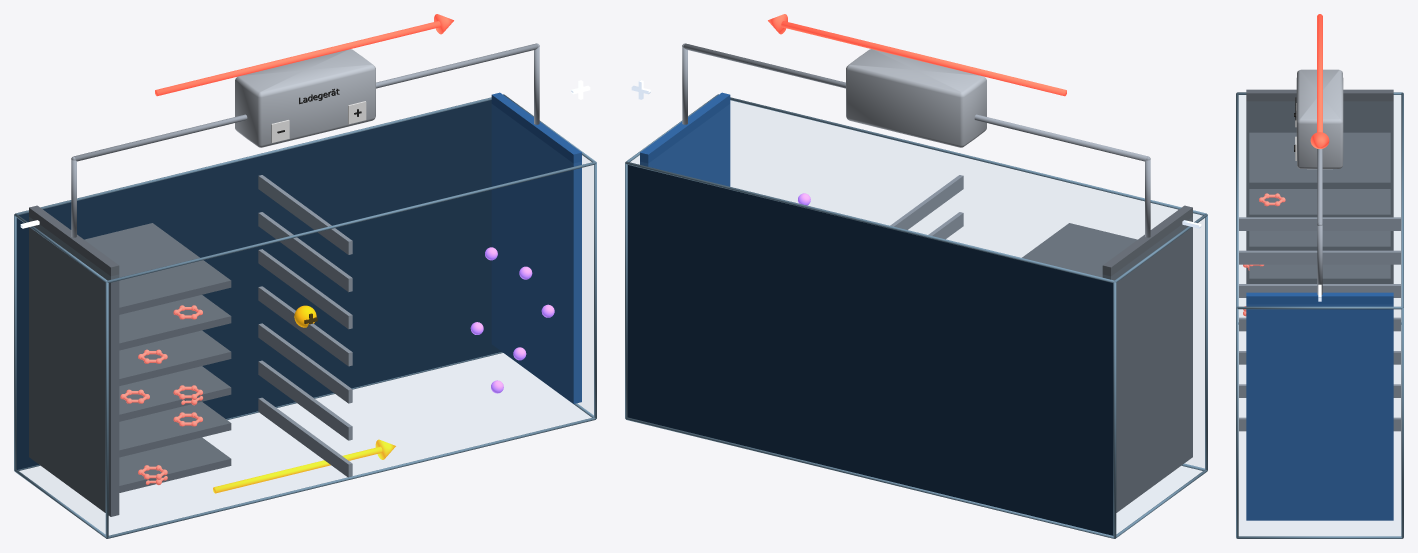
File: akku.glb
3 renders of one model, left to right at view 1: azimuth 30°, elevation 25°; view 2: azimuth 150°, elevation 25°; view 3: azimuth 270°, elevation 25°, orthographic. The views are drawn at different scales.
Parts seen in each view (by area): view 1: Elektrolyt_Rueckwand, Graphit_Schichten, Oxid_Ableiter, Graphit_Ableiter, Separator, Ladegeraet, Behaelter, Draht, Pfeil_e, Pfeil_Li; view 2: Elektrolyt_Rueckwand, Graphit_Ableiter, Ladegeraet, Behaelter, Oxid_Ableiter, Graphit_Schichten, Draht, Pfeil_e, Separator; view 3: Oxid_Ableiter, Graphit_Schichten, Separator, Graphit_Ableiter, Ladegeraet, Behaelter, Pfeil_e, Draht, C6s_1.
Part boxes in pixels (x1,y1,x2,y2): Elektrolyt_Rueckwand: (16, 100, 501, 469); Graphit_Schichten: (84, 223, 231, 492); Oxid_Ableiter: (491, 92, 581, 403); Graphit_Ableiter: (29, 205, 119, 516); Separator: (258, 175, 352, 477); Ladegeraet: (235, 49, 375, 147); Behaelter: (14, 94, 596, 538); Draht: (71, 43, 539, 237); Pfeil_e: (155, 14, 453, 96); Pfeil_Li: (213, 439, 395, 493); Elektrolyt_Rueckwand: (627, 165, 1113, 535); Graphit_Ableiter: (1102, 205, 1192, 512); Ladegeraet: (846, 49, 986, 147); Behaelter: (625, 94, 1207, 538); Oxid_Ableiter: (640, 92, 730, 186); Graphit_Schichten: (1022, 223, 1137, 277); Draht: (682, 43, 1150, 237); Pfeil_e: (768, 14, 1066, 96); Separator: (890, 175, 963, 239); Oxid_Ableiter: (1246, 292, 1393, 520); Graphit_Schichten: (1249, 132, 1390, 283); Separator: (1239, 217, 1400, 431); Graphit_Ableiter: (1246, 89, 1393, 283); Ladegeraet: (1296, 69, 1343, 169); Behaelter: (1236, 92, 1403, 538); Pfeil_e: (1310, 14, 1329, 148); Draht: (1317, 149, 1322, 294); C6s_1: (1259, 193, 1285, 206).
Bounding box in the file's own units: 19.99 × 14.49 × 5.69.
